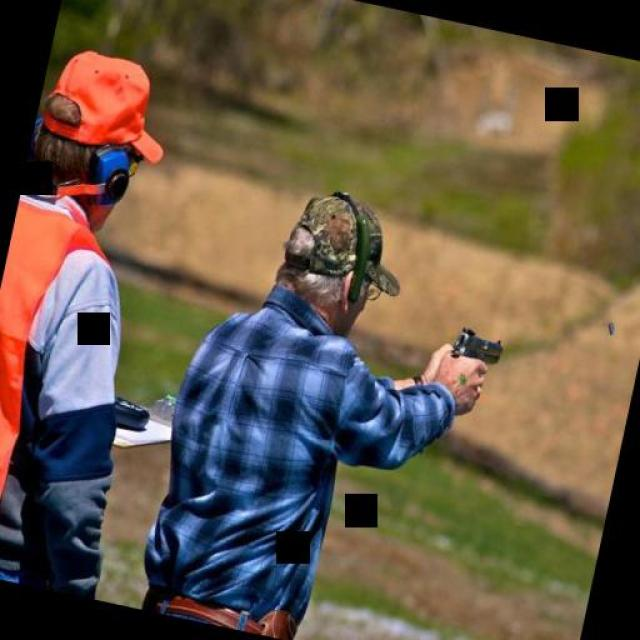gun: (432, 309, 512, 386)
